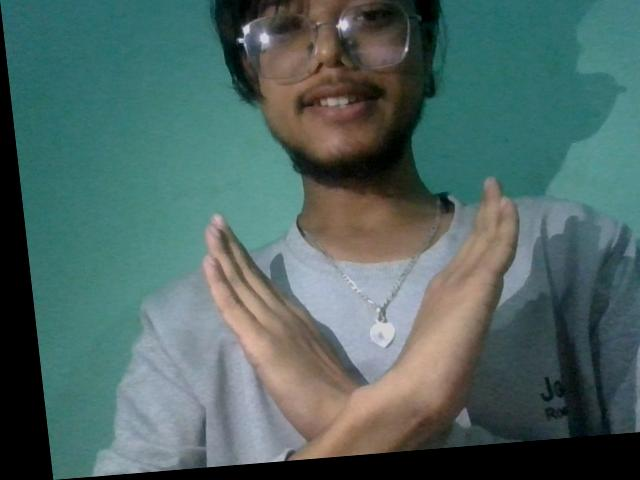dont: (151, 167, 560, 454)
